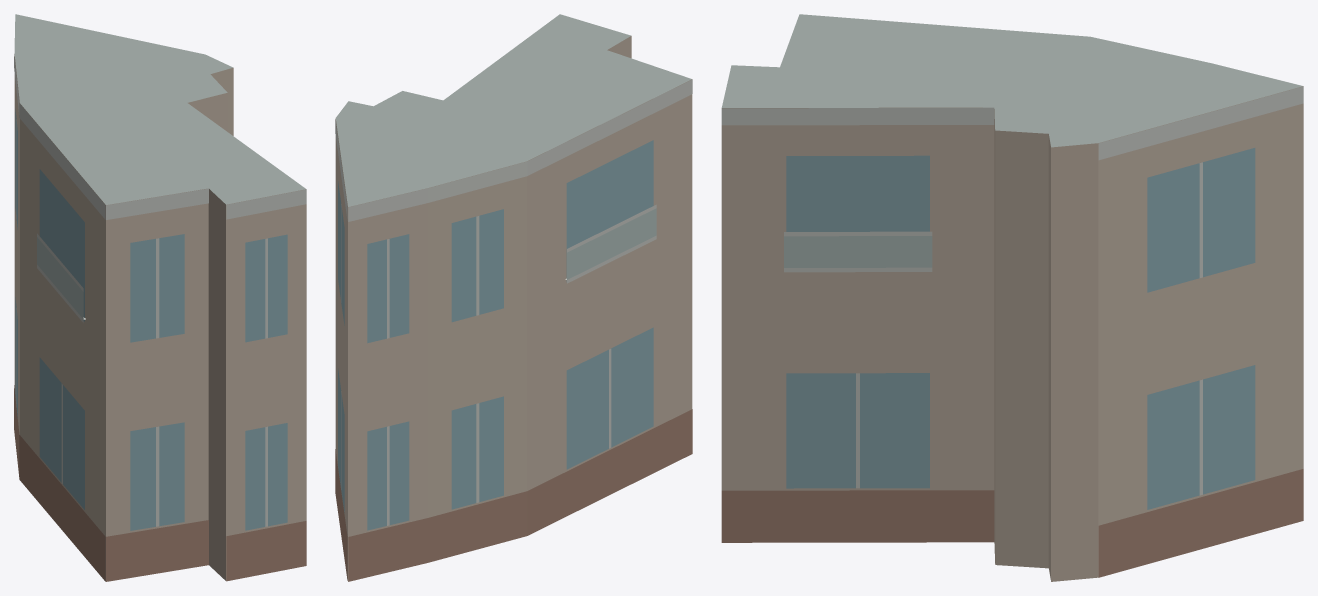
Rendered from survey-upis-32650637.glb.
3 views of the same model, side by side, from view 1: azimuth 30°, elevation 25°; view 2: azimuth 150°, elevation 25°; view 3: azimuth 270°, elevation 25° (orthographic). The views are drawn at different scales.
Visible parts, largest first — view 1: survey-upis-32650637.tmp; view 2: survey-upis-32650637.tmp; view 3: survey-upis-32650637.tmp.
Part boxes in pixels (x1,y1,x2,y2): survey-upis-32650637.tmp: [14, 14, 306, 581]; survey-upis-32650637.tmp: [335, 14, 692, 581]; survey-upis-32650637.tmp: [721, 14, 1303, 581].
Bounding box in the file's own units: 4.02 × 6.1 × 7.41.
